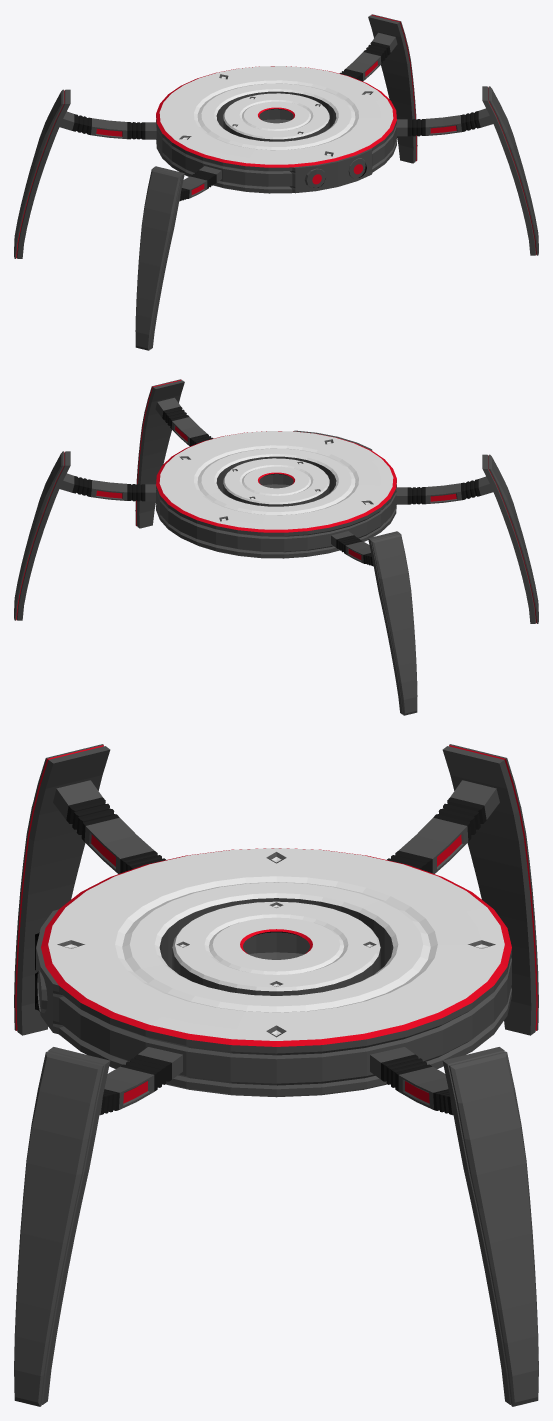
Rendered from Pillbug.fbx.
The picture shows the model from 3 angles, top to bottom: view 1: azimuth 30°, elevation 25°; view 2: azimuth 150°, elevation 25°; view 3: azimuth 270°, elevation 25°; orthographic projection. The views are drawn at different scales.
Parts seen in each view (by area): view 1: Pillbug; view 2: Pillbug; view 3: Pillbug.
Part boxes in pixels (x1,y1,x2,y2): Pillbug: [14, 14, 538, 350]; Pillbug: [14, 379, 538, 715]; Pillbug: [14, 744, 538, 1406].
Bounding box in the file's own units: 8.73 × 3.29 × 5.05.
